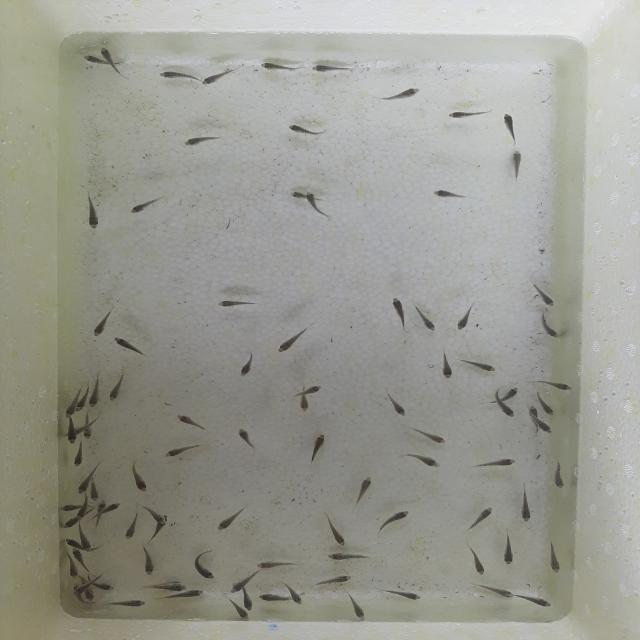fingerling: (273, 322, 314, 354), (372, 507, 413, 539), (275, 120, 340, 140), (460, 504, 498, 536), (371, 85, 424, 105), (215, 504, 250, 532), (187, 548, 216, 580), (322, 514, 351, 546), (128, 194, 170, 216), (200, 67, 240, 90), (160, 442, 208, 461), (527, 278, 557, 308), (349, 474, 376, 507), (373, 584, 422, 602), (179, 134, 234, 150), (252, 58, 303, 75), (111, 334, 147, 358), (90, 306, 117, 338), (443, 107, 493, 124), (387, 294, 409, 332), (468, 455, 520, 471), (400, 451, 445, 469), (452, 302, 479, 332), (464, 545, 490, 576), (127, 460, 150, 495), (303, 434, 328, 466), (82, 190, 101, 232), (384, 390, 410, 420), (425, 184, 473, 200), (153, 68, 198, 85), (515, 590, 554, 609), (500, 111, 520, 147), (212, 296, 260, 311), (506, 149, 527, 183), (471, 582, 513, 599), (346, 591, 369, 622), (412, 426, 450, 444), (174, 413, 208, 433), (232, 426, 258, 452), (307, 62, 355, 76), (105, 372, 126, 404), (414, 303, 436, 333), (457, 358, 498, 374), (536, 311, 559, 339), (137, 545, 157, 577), (534, 376, 574, 392), (312, 573, 354, 588), (500, 531, 517, 567), (323, 550, 372, 562), (123, 511, 142, 541), (519, 486, 534, 524), (237, 352, 258, 379), (253, 558, 300, 570), (546, 539, 562, 574), (550, 460, 568, 491), (103, 596, 147, 608), (438, 348, 454, 381), (88, 377, 102, 409), (70, 445, 88, 468), (148, 582, 188, 592), (496, 402, 517, 418), (80, 53, 102, 68), (502, 383, 519, 402), (256, 592, 288, 602), (62, 401, 78, 420), (304, 191, 318, 211), (228, 578, 246, 593), (66, 562, 80, 580), (242, 590, 253, 612), (75, 479, 90, 495), (290, 589, 304, 606), (181, 589, 206, 598), (541, 402, 556, 417), (539, 420, 553, 436), (97, 46, 114, 59), (65, 428, 78, 445), (106, 501, 123, 514), (88, 486, 101, 502), (298, 396, 311, 412), (61, 518, 77, 530), (59, 501, 76, 512), (152, 513, 167, 525), (288, 190, 304, 201), (96, 582, 115, 591), (235, 608, 249, 620), (64, 537, 80, 547), (76, 506, 87, 520), (72, 585, 86, 596), (308, 383, 322, 394), (83, 426, 93, 441), (71, 548, 83, 560), (528, 403, 538, 417), (96, 498, 107, 510), (84, 591, 96, 602), (82, 542, 93, 553)
